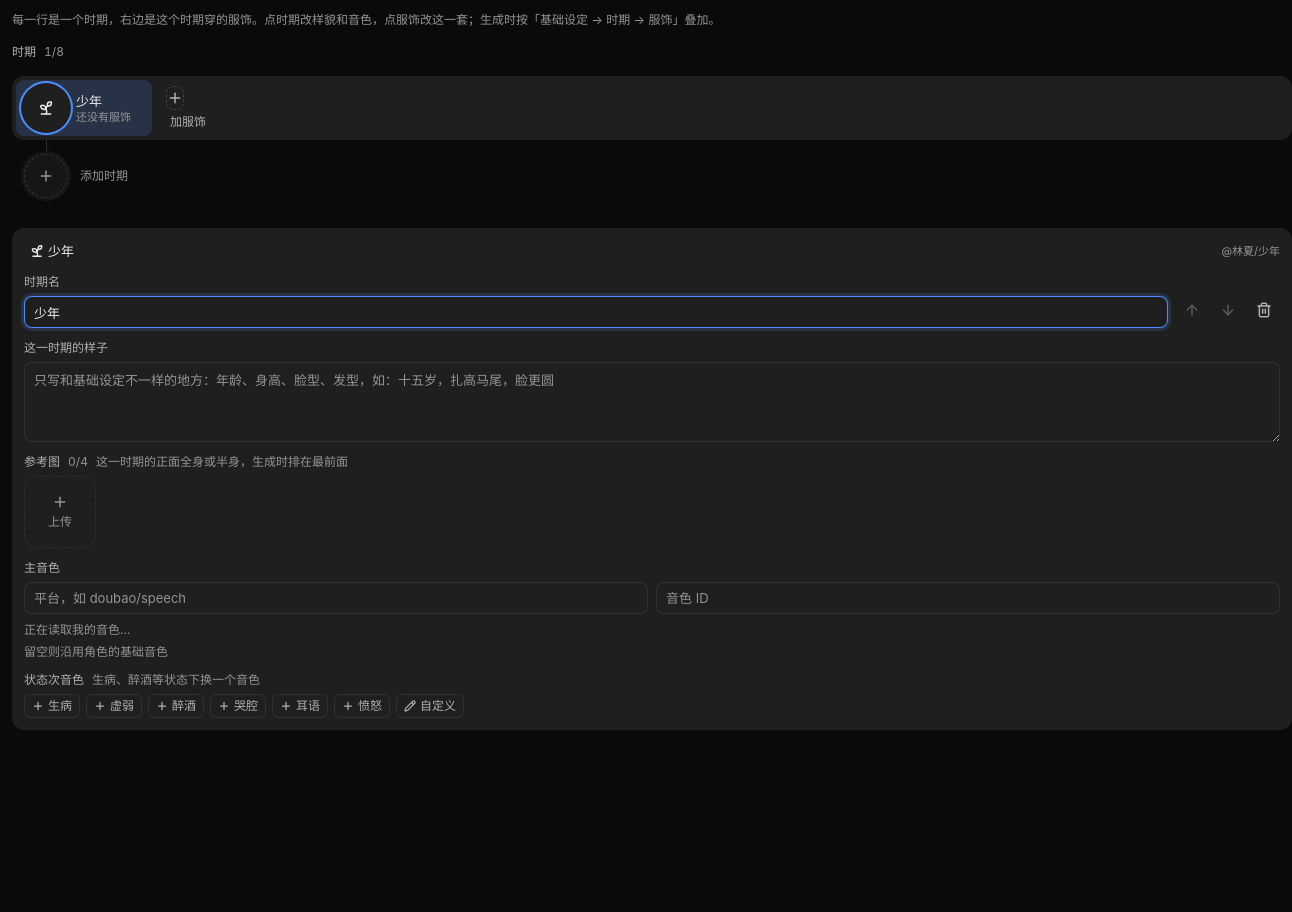
Test: 角色档案面板 › 名称草稿按 Esc 还原成已存的名字，不留下未提交的修改
This screenshot has width=1292, height=912.
Step 1. Replace the text in the field labelled "时期名" with "临时编辑" → (596,312), box [24,296,1168,328]
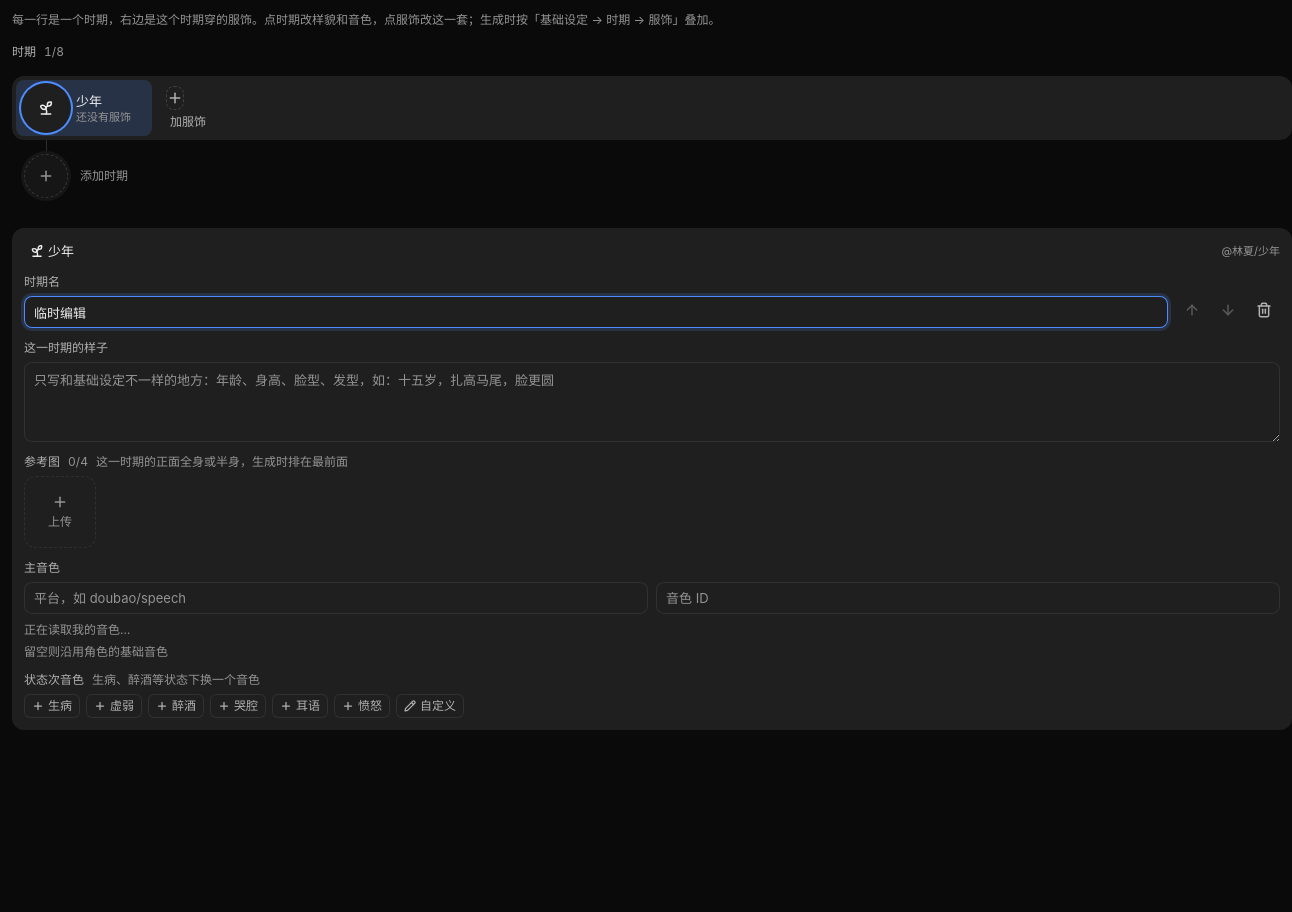
Step 2. Press Escape in the field labelled "时期名", box [24,296,1168,328]
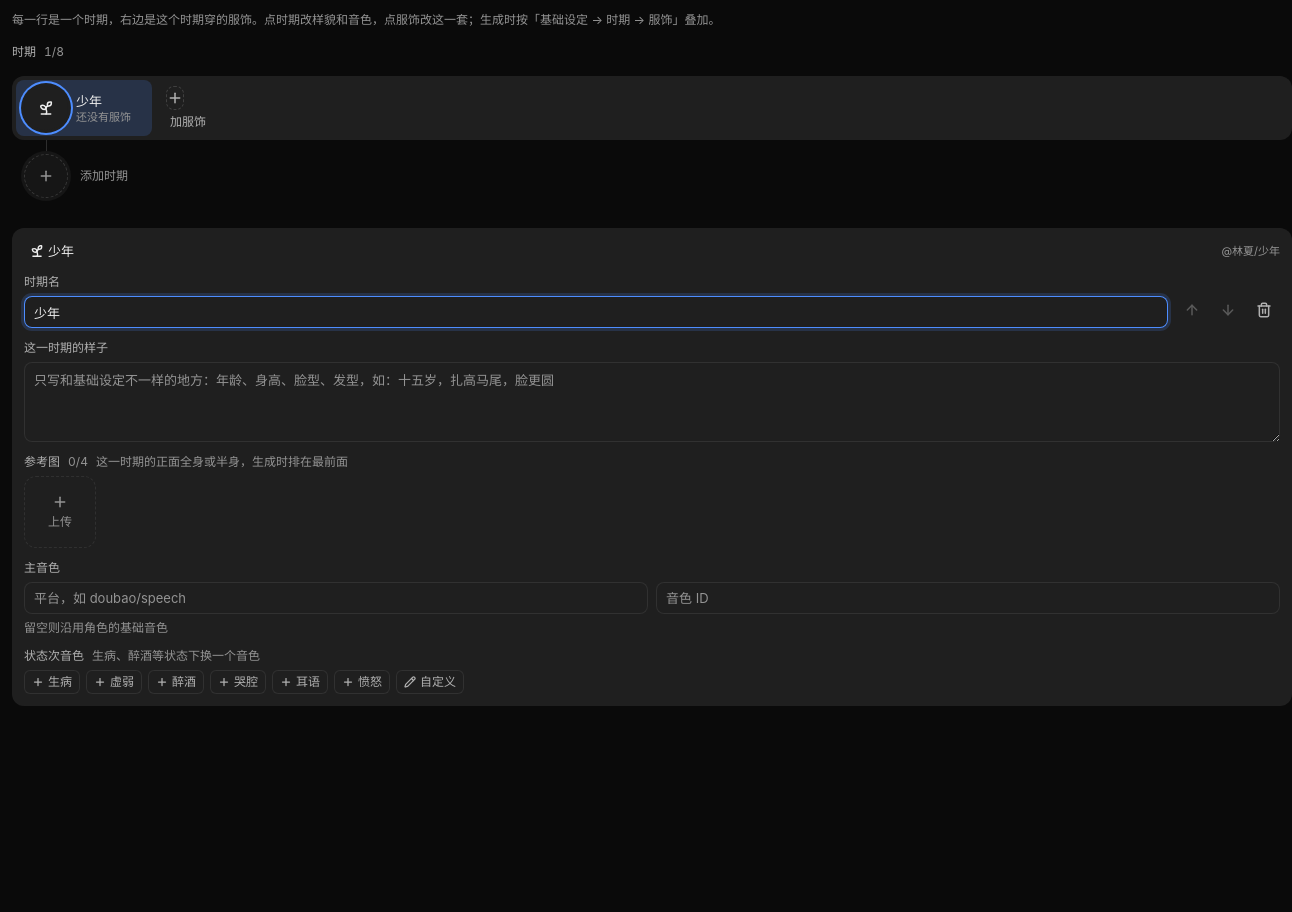
Expected: the field labelled "时期名" holds "少年", [24,296,1168,328]
